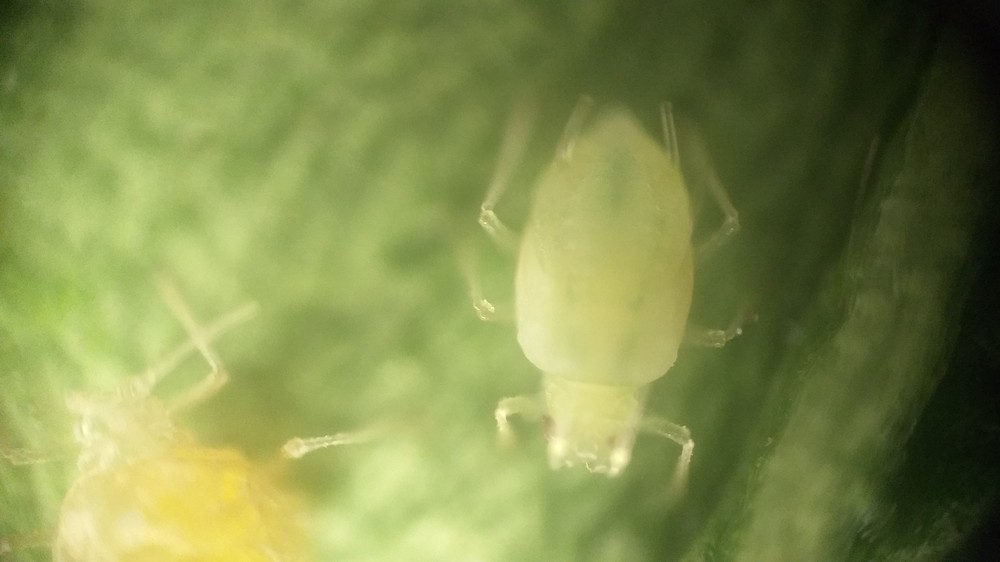Pulgon: (445, 90, 765, 519), (4, 292, 366, 562)
